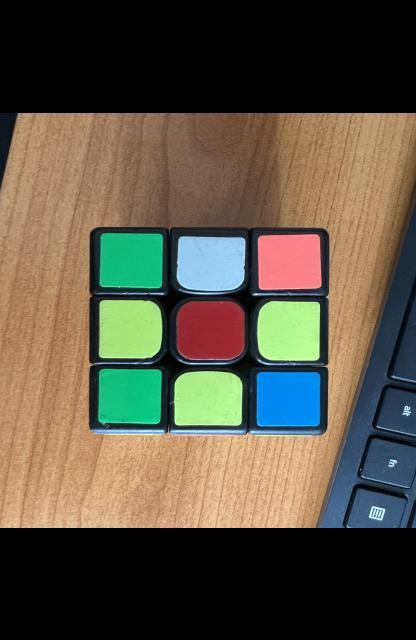Blue: (257, 371, 320, 426)
Green: (99, 232, 163, 288), (98, 368, 162, 423)
Orange: (258, 233, 322, 289)
Red: (177, 300, 244, 359)
White: (177, 236, 245, 290)
Yellow: (257, 299, 320, 360), (174, 370, 243, 425), (98, 299, 162, 358)
